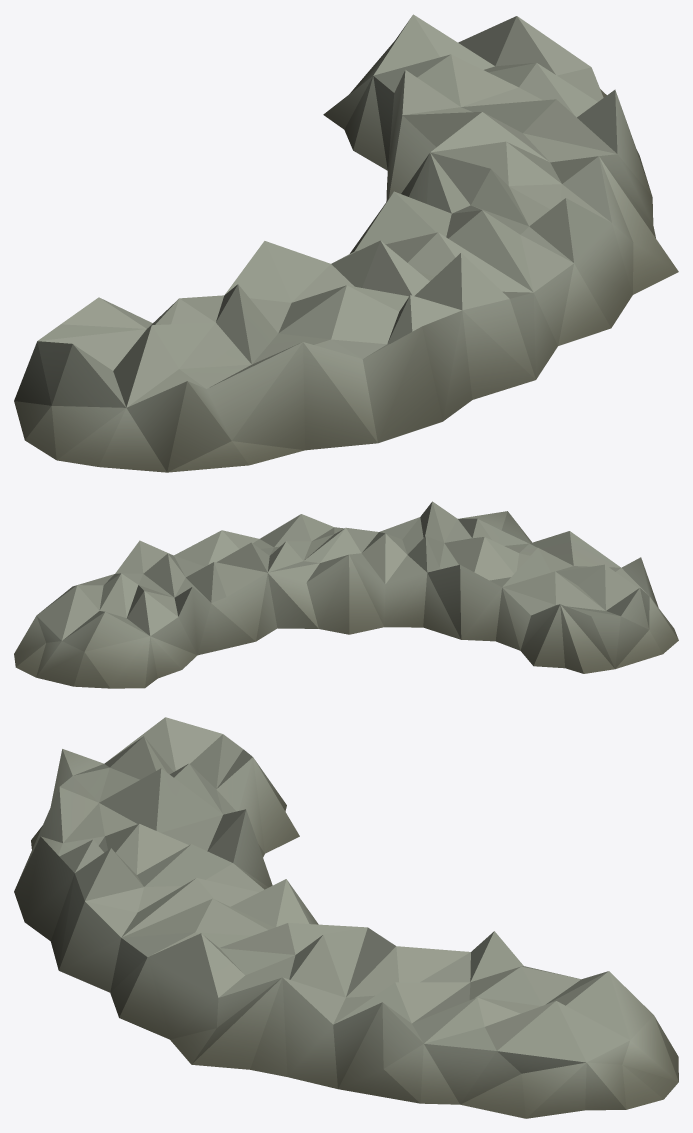
File: ZLP_Road_A_7.FBX
3 views of the same model, one above another, from view 1: azimuth 30°, elevation 25°; view 2: azimuth 150°, elevation 25°; view 3: azimuth 270°, elevation 25° (orthographic). The views are drawn at different scales.
Visible parts, largest first — view 1: ZLP_Road_A_7; view 2: ZLP_Road_A_7; view 3: ZLP_Road_A_7.
Part boxes in pixels (x1,y1,x2,y2): ZLP_Road_A_7: [14, 14, 678, 472]; ZLP_Road_A_7: [14, 501, 678, 688]; ZLP_Road_A_7: [14, 717, 678, 1118].
Size of the model in its own units: 608 by 86.14 by 503.
